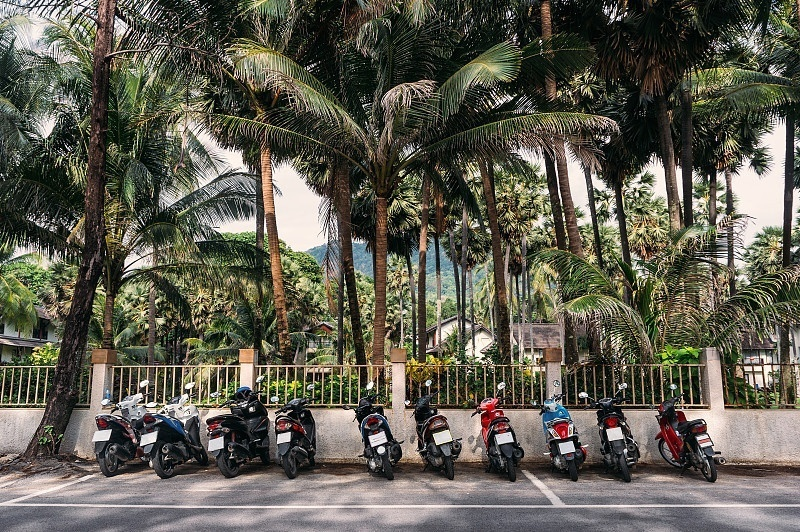non-vehicle: (651, 391, 721, 481), (205, 389, 273, 472), (144, 396, 210, 476), (92, 390, 152, 470), (409, 388, 463, 473), (472, 393, 524, 477), (589, 387, 638, 476), (535, 391, 585, 473), (351, 396, 401, 478), (272, 389, 320, 474)
